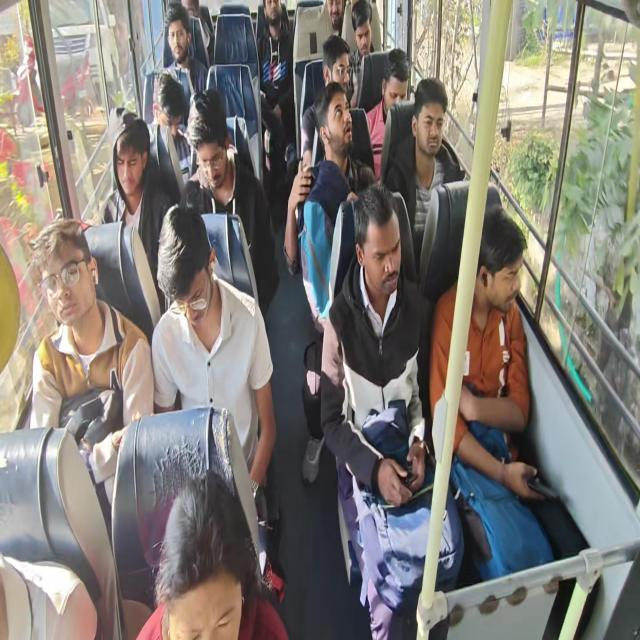person: (319, 183, 465, 638), (428, 203, 560, 596), (28, 216, 154, 542), (151, 202, 277, 524), (282, 81, 376, 484), (136, 469, 288, 639), (184, 87, 278, 319), (98, 112, 174, 314), (384, 76, 462, 270), (0, 552, 98, 638), (255, 0, 296, 181), (300, 34, 353, 170), (152, 2, 208, 128), (146, 73, 195, 201), (364, 47, 410, 181), (347, 0, 375, 109), (324, 0, 345, 35)
